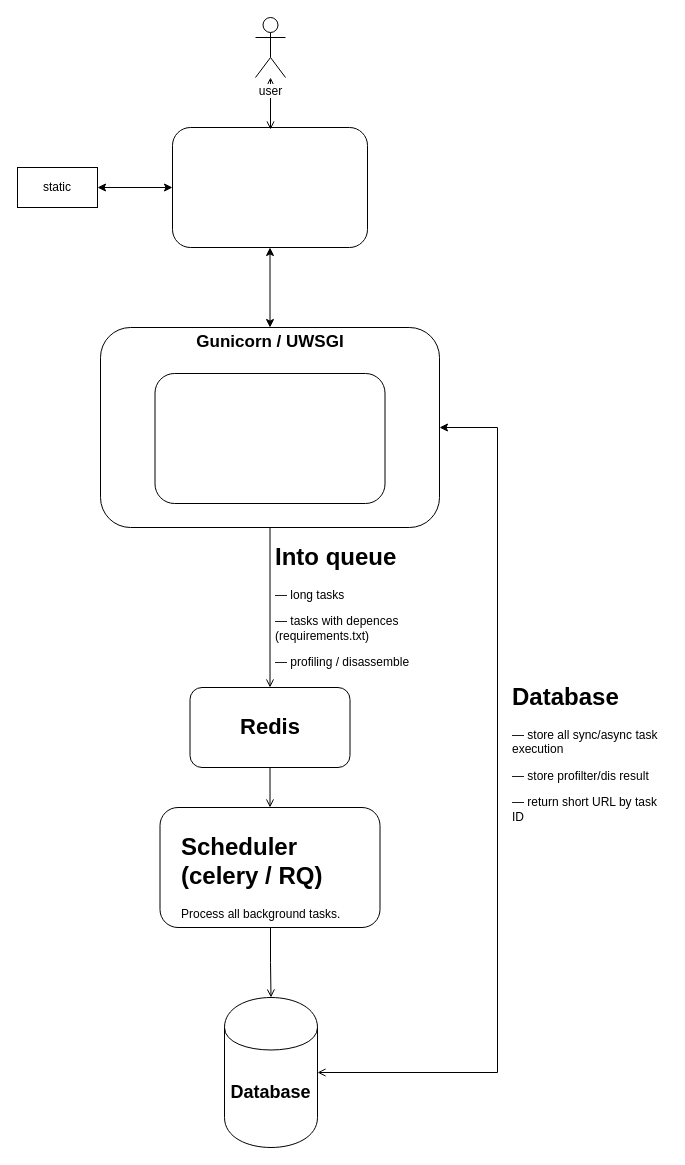
Image size: 685x1165. Some labels were removed from this diagram. Each missing label, with the box of its shape:
Django backend — accept request — sync execute — long queries starts into Queue: (154, 372, 385, 504)
Nginx — return static files — proxy requests to django: (172, 126, 368, 248)
